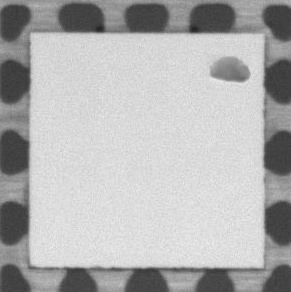DIE_INK: (207, 52, 249, 83)
